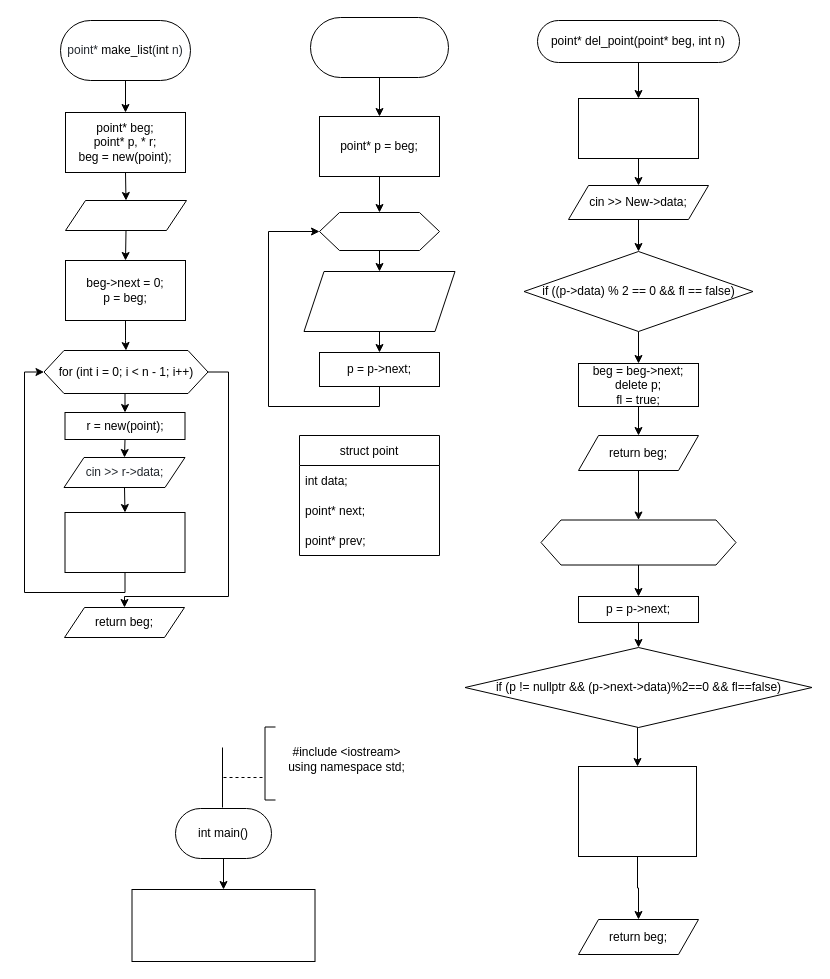
This 830x979 diagram has some shape labels left out. The shapes that lost their labels are listed below. From the top down, each one's centre as x and y in pixels, then its label:
(379,47): void print_list(point* beg)
(638,128): point* p = beg; point* New = new(point);
(125,215): cin >> beg-> data ;
(379,231): while (p != nullptr)
(379,301): cout << p->data << "\t";
(124,542): r->next = 0; p->next = r; p = r;
(638,542): for (int i = 0;i < n && p != 0; i++)
(637,811): point* r = p->next; p->next = r->next; delete r; fl = true; return beg;
(223,925): int n = 10; point* beg = make_list(n); del_point(beg,n); print_list(beg);
